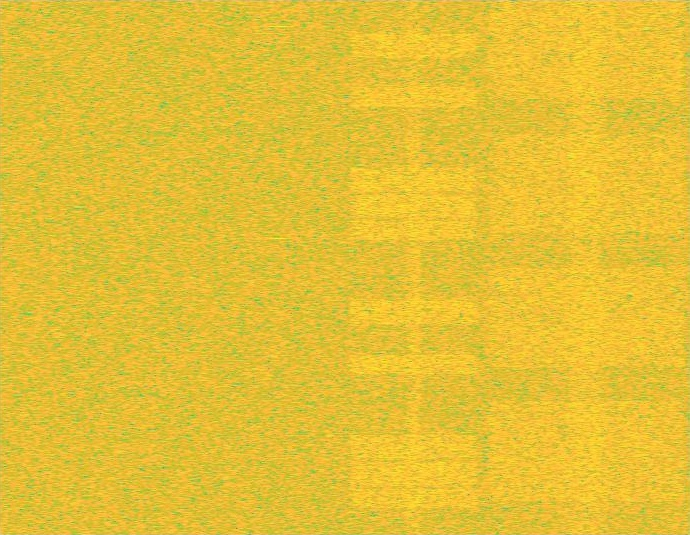5G: (483, 0, 689, 534)
DSSS: (563, 0, 610, 534), (405, 0, 423, 534)
LTE: (345, 0, 483, 534)
Radar: (272, 0, 286, 534)
